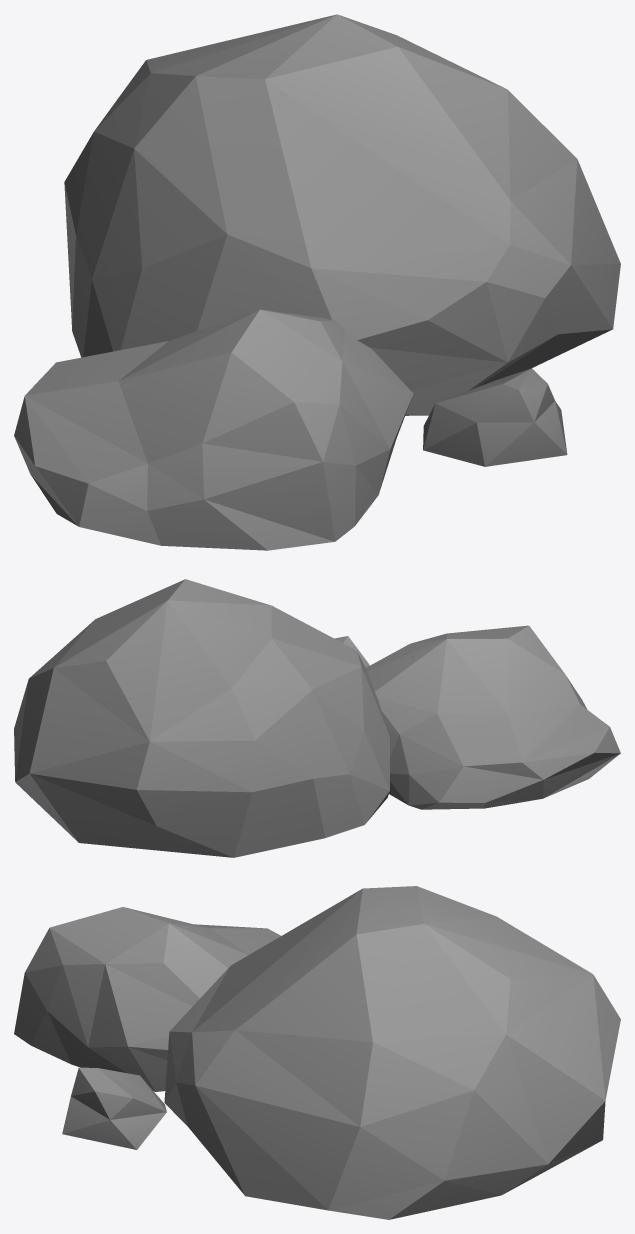
Rendered from Stone1.fbx.
3 renders of one model, top to bottom at view 1: azimuth 30°, elevation 25°; view 2: azimuth 150°, elevation 25°; view 3: azimuth 270°, elevation 25°, orthographic. The views are drawn at different scales.
Visible parts, largest first — view 1: Stone_group_average; view 2: Stone_group_average; view 3: Stone_group_average.
Part boxes in pixels (x1,y1,x2,y2): Stone_group_average: [14, 14, 620, 550]; Stone_group_average: [14, 579, 620, 857]; Stone_group_average: [14, 886, 620, 1219].
Size of the model in its own units: 294 by 111 by 290.
Materials: 1 (1 with a texture image).
